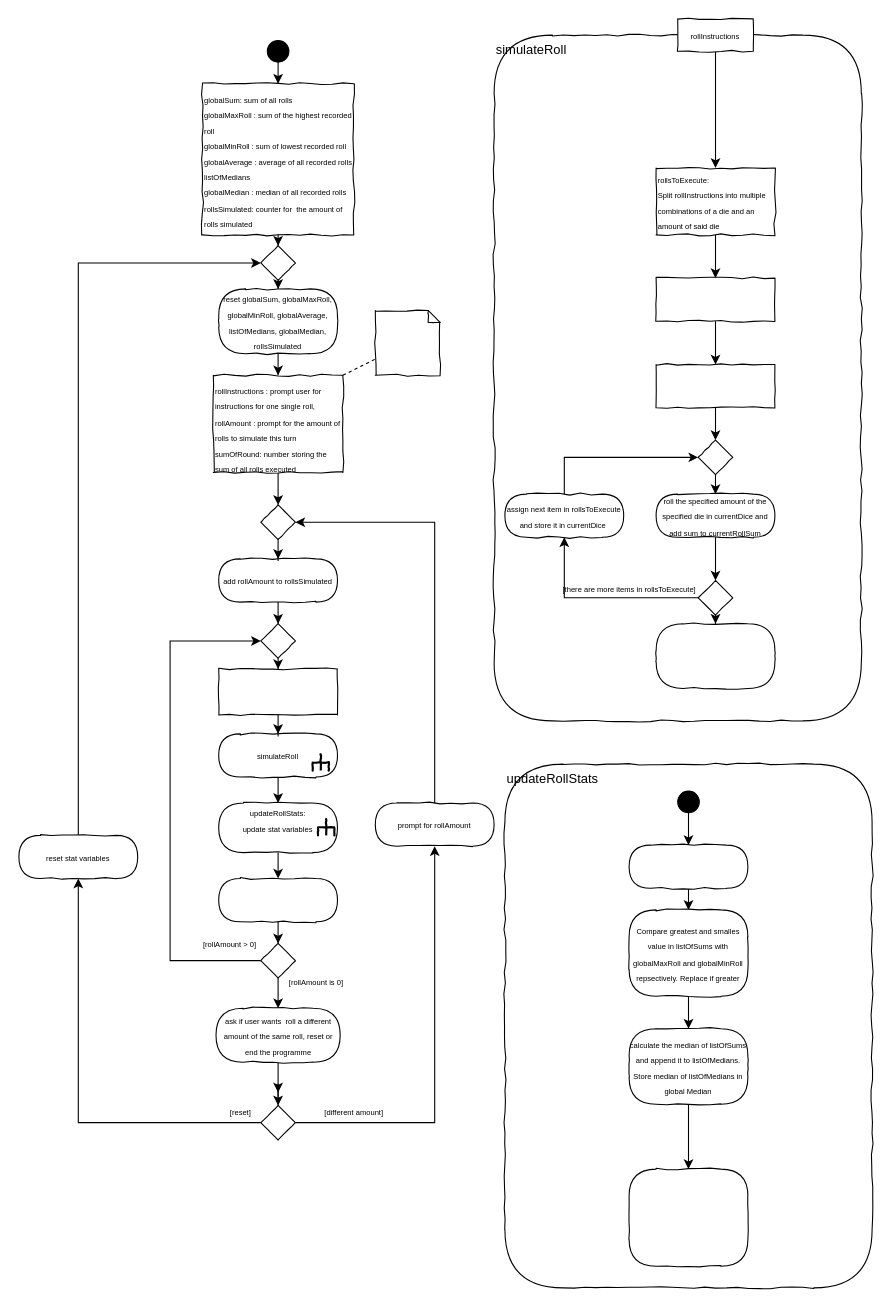
This 891x1307 diagram has some shape labels left out. The shapes that lost their labels are listed below. From the top down, each one's centre as x and y in pixels, then its label:
[715,299]: currentDice: take first item in rollsToExecute (e.g. "1d4")
[407,342]: structure: 1d4,5d6,...
[715,385]: currentRollSum: store sum of the current single roll being executed
[715,655]: add currentRollSum to sumOfRound, append it to listOfSums
[278,691]: listOfSums: A list of all sums of the individual rolls
[688,866]: calculate average of listOfSums and average it with globalAverage, if the is one
[278,900]: reduce rollAmount by 1
[688,1217]: set sumOfRound to sum of all entries in listOfSums, add this to globalSum
